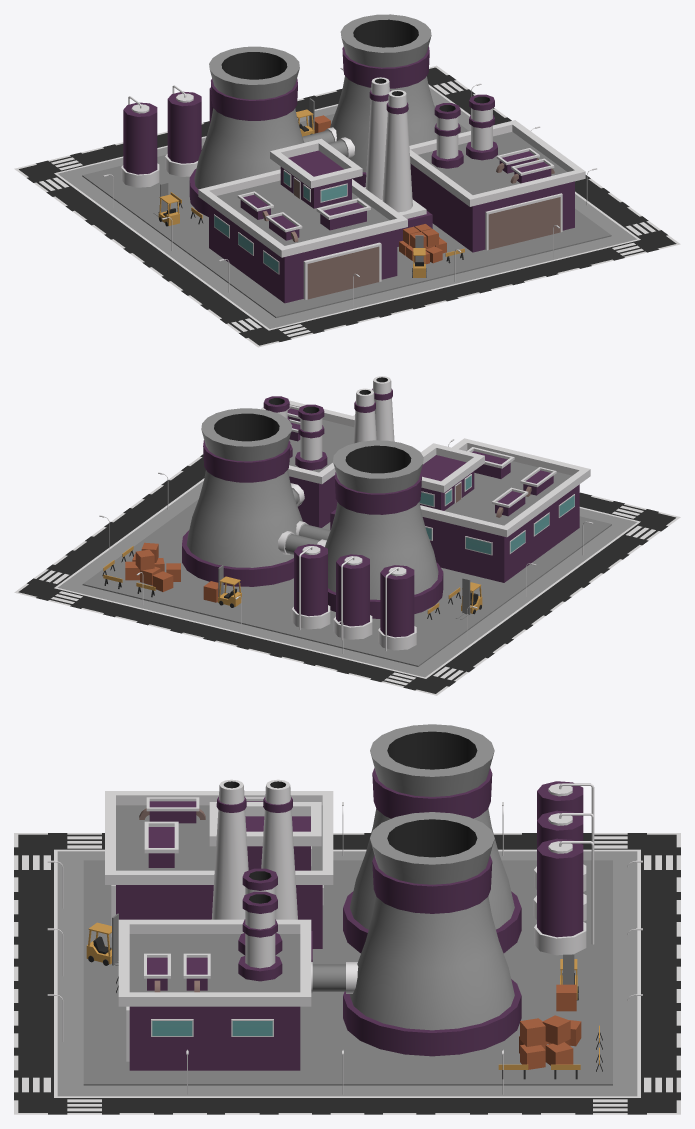
Rendered from IndustrialArea_Upgrade.fbx.
3 renders of one model, top to bottom at view 1: azimuth 30°, elevation 25°; view 2: azimuth 150°, elevation 25°; view 3: azimuth 270°, elevation 25°, orthographic. The views are drawn at different scales.
Parts seen in each view (by area): view 1: IndustrialArea_Upgrade; view 2: IndustrialArea_Upgrade; view 3: IndustrialArea_Upgrade.
Boxes of the visible parts, x1,y1,x2,y2 form: IndustrialArea_Upgrade: (14, 14, 680, 347); IndustrialArea_Upgrade: (14, 376, 680, 695); IndustrialArea_Upgrade: (14, 724, 680, 1114).
Bounding box in the file's own units: 1000 × 331 × 1000.
Materials: 1 (1 with a texture image).
